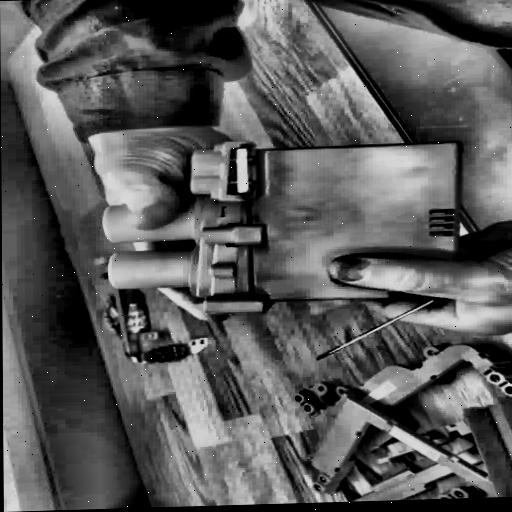connector: (101, 132, 479, 323)
